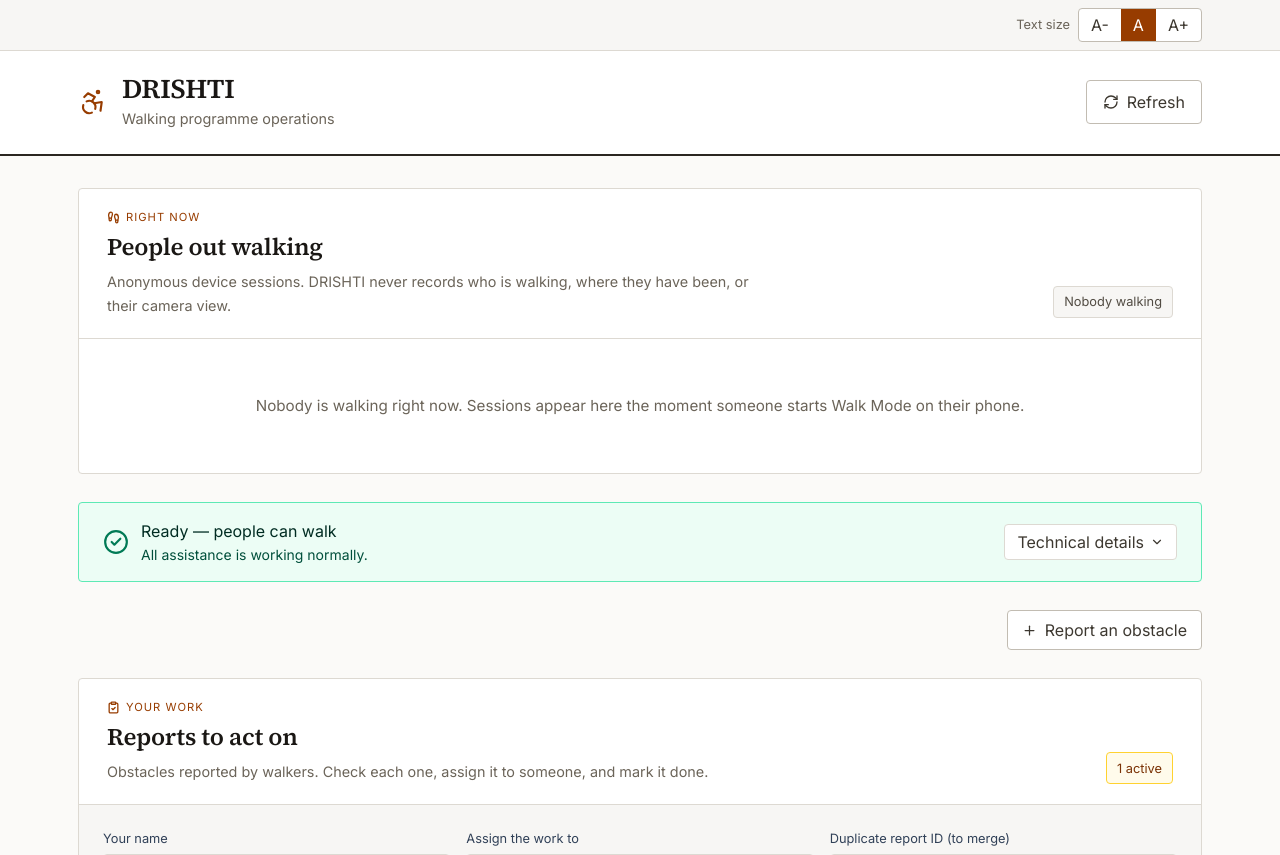
Test: keeps engineering detail behind a disclosure
Expected: the text "Ready — people can walk" is shown, [141,521,337,541]
Expected: the text "Test GPU" is not shown
Step 1. Click the button "Technical details" → (1091, 542), box [1004,524,1177,560]
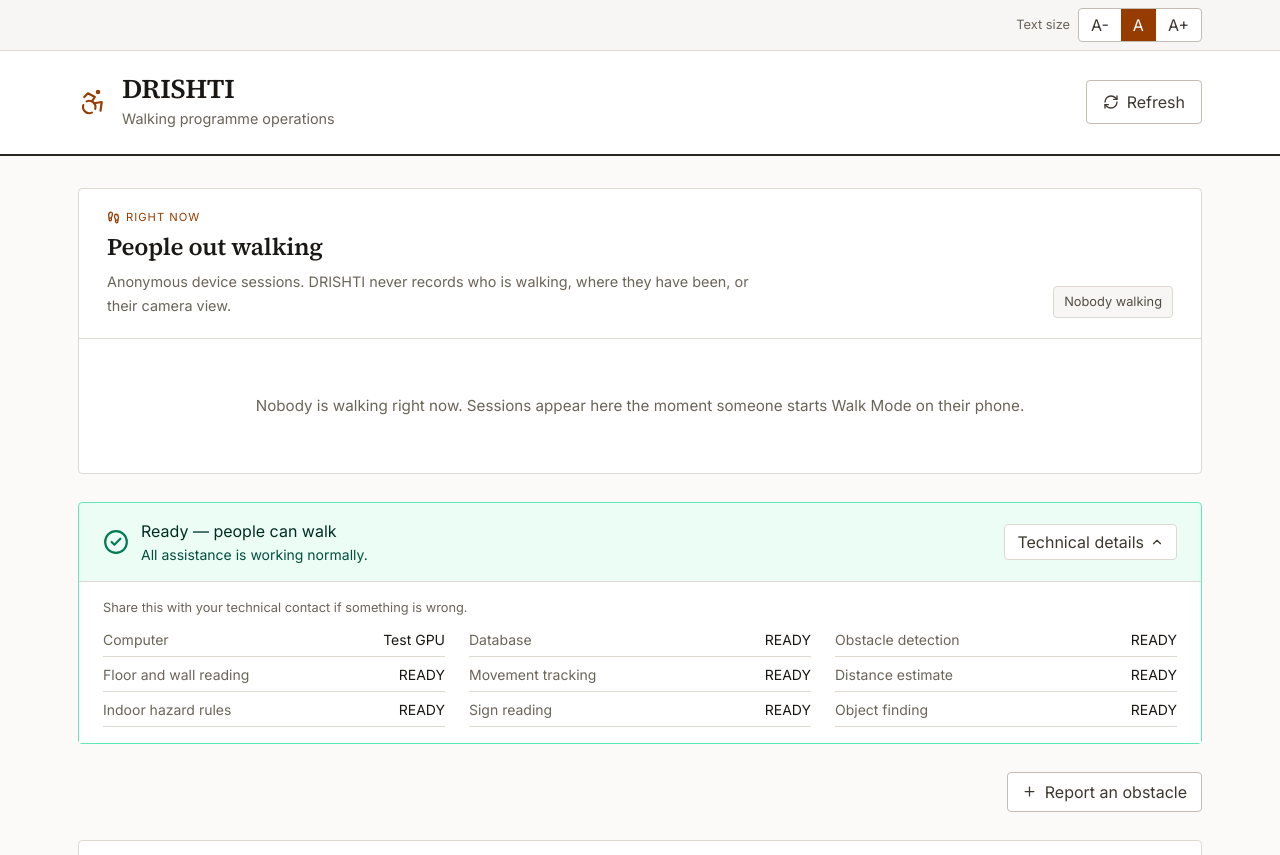
Result: the text "Test GPU" is shown at [383,630,445,650]
Result: the text "Obstacle detection" is shown at [835,630,960,650]
